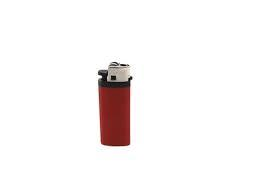lighter: (95, 60, 133, 147)
